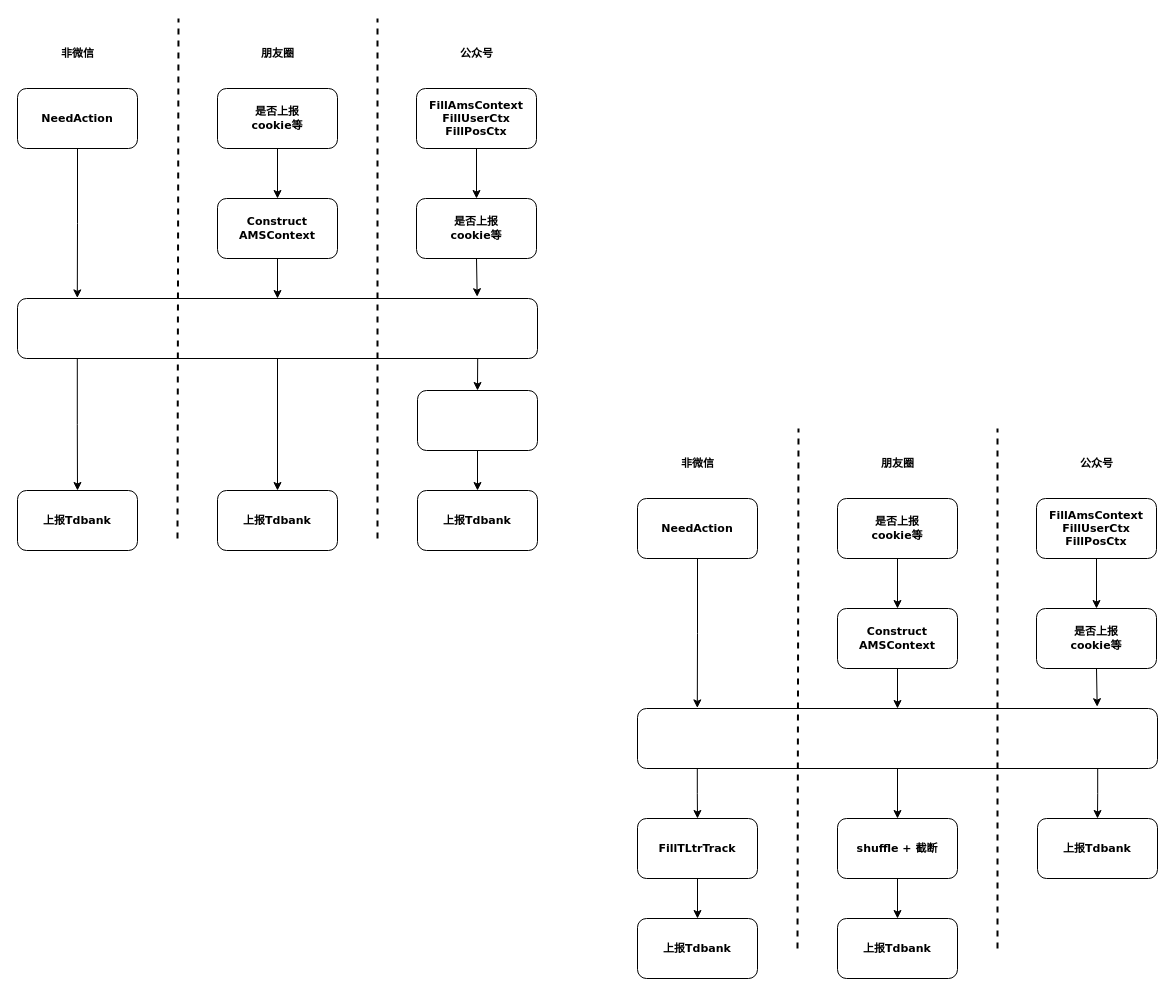
This 1175x996 diagram has some shape labels left out. The centre of each missing label's shape, as x and y in pixels:
"DirectModify TrackData" belongs at point (477, 420).
"MixerTrackLogger:: FillLtrTrack" belongs at point (897, 738).
"TrackLogFiller:: FillMixerTrack" belongs at point (277, 328).
